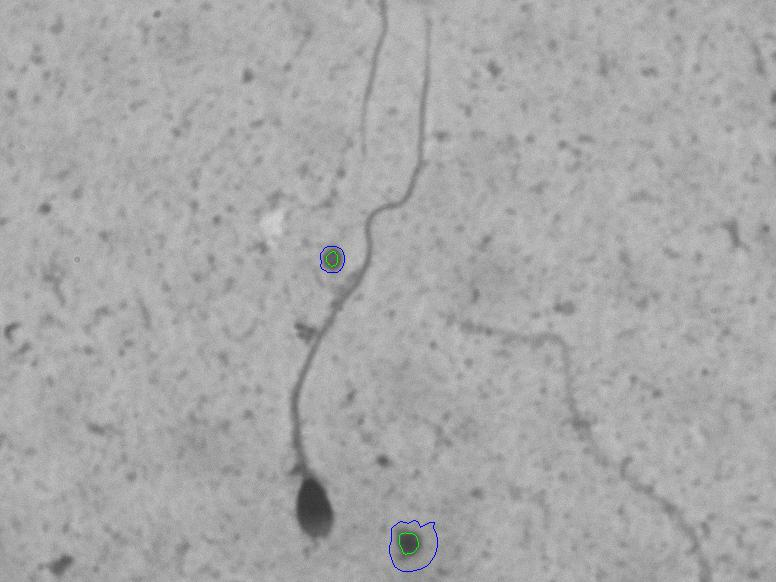Normal: (268, 17, 450, 548)
